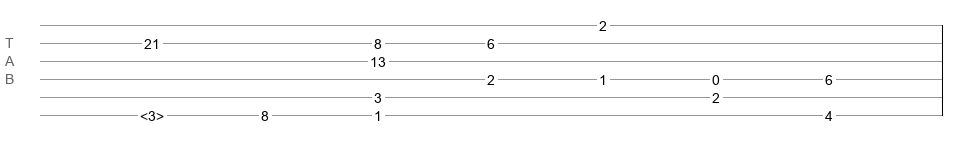0: (712, 72, 720, 82)
1: (374, 108, 382, 118), (599, 72, 607, 82)
13: (370, 54, 386, 64)
2: (487, 72, 495, 82), (599, 18, 607, 28), (712, 90, 720, 100)
21: (144, 36, 160, 46)
3: (374, 90, 382, 100)
4: (825, 108, 833, 118)
6: (487, 36, 495, 46), (825, 72, 833, 82)
8: (261, 108, 269, 118), (374, 36, 382, 46)
harmonic: (140, 108, 164, 118)
